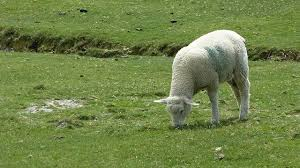sheep: (163, 28, 262, 131)
